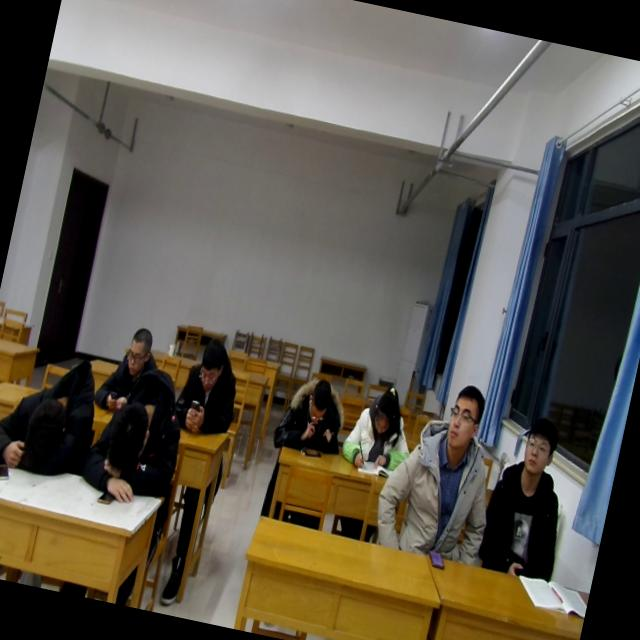bow: (76, 365, 195, 516), (0, 342, 106, 487)
down: (192, 333, 232, 396), (120, 318, 158, 382), (366, 383, 404, 440), (302, 368, 336, 428)
lookup: (439, 378, 492, 458), (516, 410, 566, 484)
sit: (370, 366, 512, 562), (473, 410, 582, 584), (170, 331, 250, 444), (91, 314, 176, 418), (270, 364, 356, 458), (339, 374, 416, 477)
